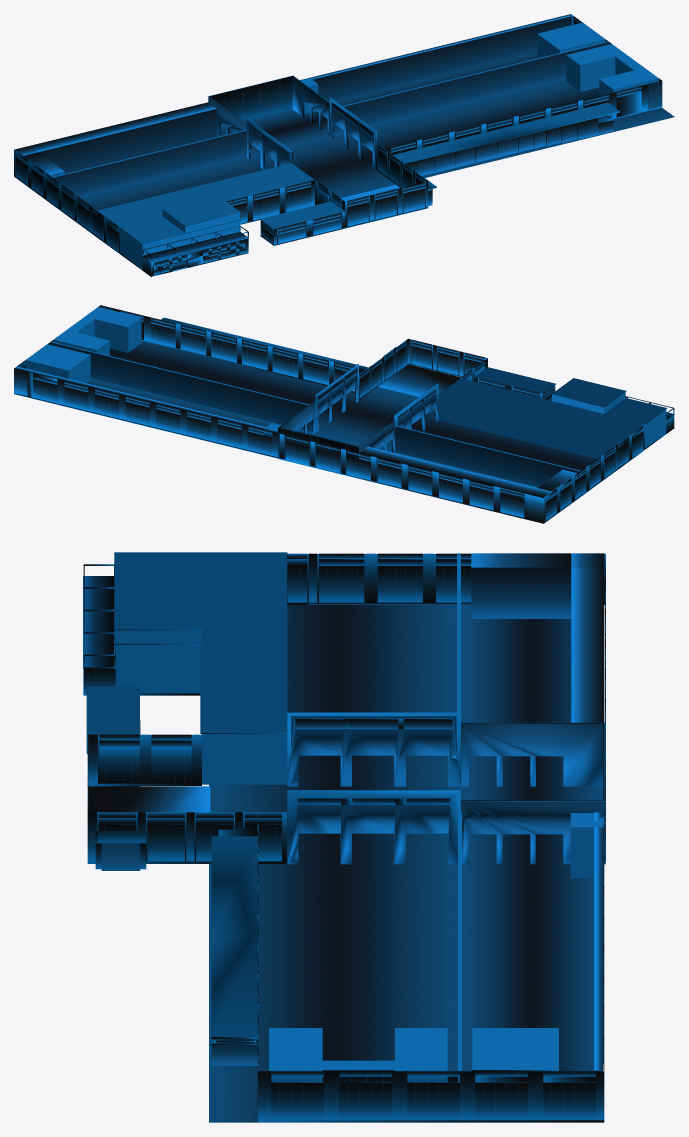
The model's file is room.glb.
The picture shows the model from 3 angles, top to bottom: view 1: azimuth 30°, elevation 25°; view 2: azimuth 150°, elevation 25°; view 3: azimuth 270°, elevation 25°; orthographic projection. The views are drawn at different scales.
Parts seen in each view (by area): view 1: 加平面_Plane.001; view 2: 加平面_Plane.001; view 3: 加平面_Plane.001.
Boxes of the visible parts, box(x1,y1,x2,y2) form: 加平面_Plane.001: box(14, 14, 674, 276); 加平面_Plane.001: box(14, 305, 674, 523); 加平面_Plane.001: box(83, 552, 605, 1122).
Bounding box in the file's own units: 310 × 20.49 × 132.
1 material, 1 textured.
